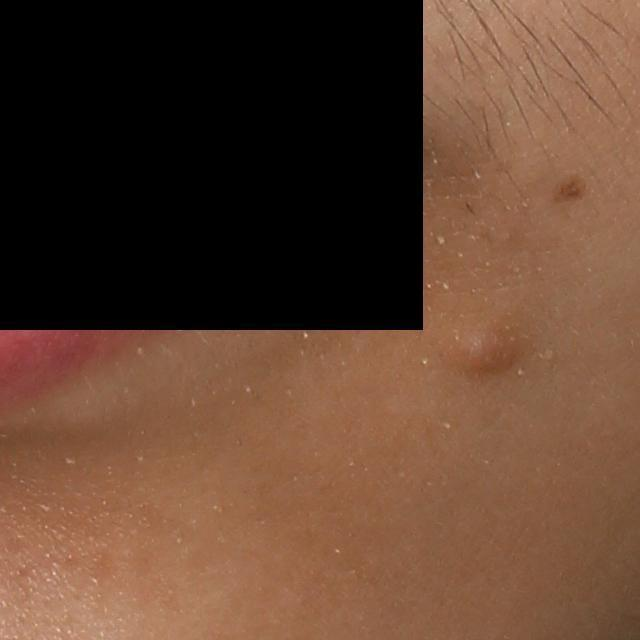nevus: (552, 172, 587, 203)
papule: (449, 317, 523, 382)
